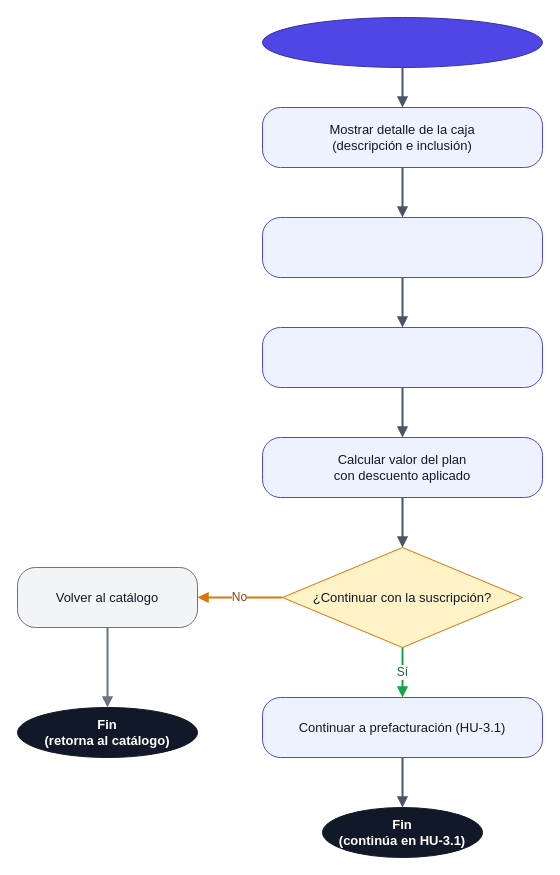
This 560x875 diagram has some shape labels left out. Here are the shapes that lost their labels. From the top down, the centre of each, then its label:
(402,42): Inicio (desde el catálogo)
(402,247): Presentar planes disponibles Mensual / Semestral / Anual
(402,357): Seleccionar plan de suscripción (RN-11)
